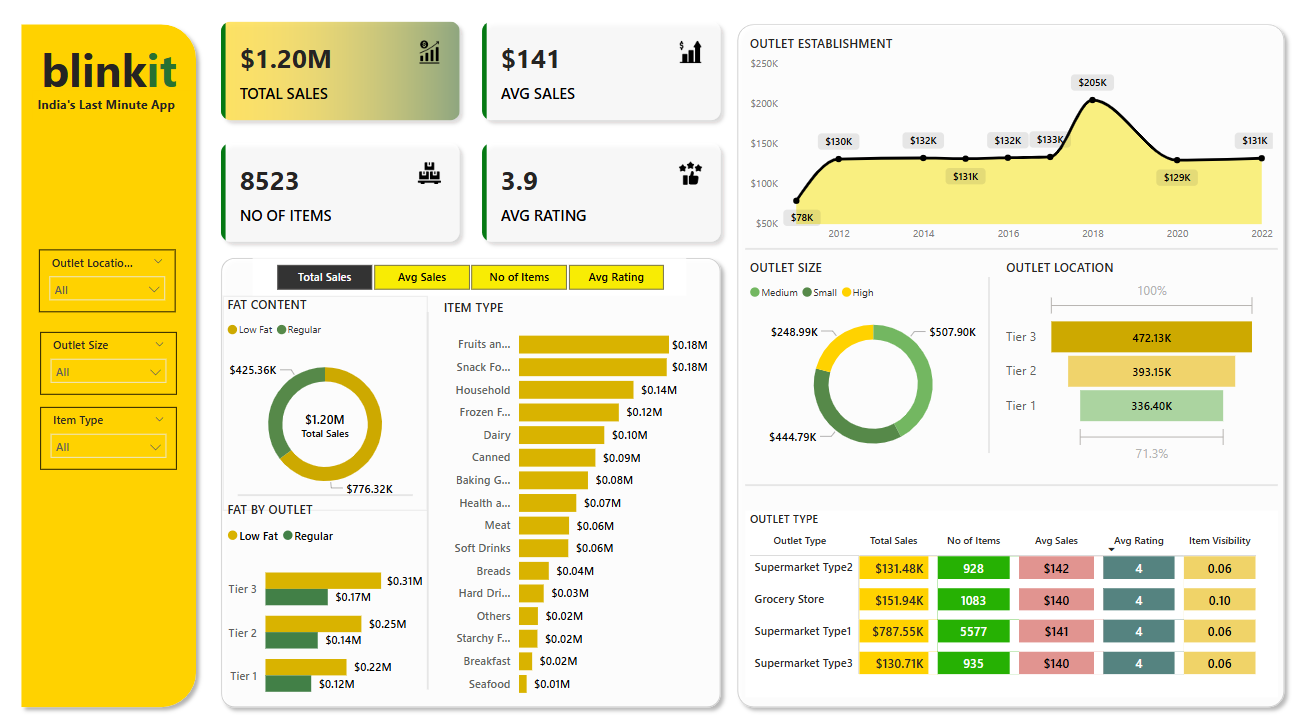

The dashboard page shown, as its layout file describes it:
{"tool":"powerbi","page":{"name":"Page 1","canvas":[1400,800],"ordinal":0},"visuals":[{"type":"shape","box":[15,25.5,205.6,750.4],"z":0},{"type":"textbox","box":[40.5,45,165.1,78],"z":1000},{"type":"textbox","box":[36,106.6,169.6,31.5],"z":2000},{"type":"cardVisual","fields":{"Data":["BlinkIT Grocery Data.Total Sales","BlinkIT Grocery Data.Avg Sales","BlinkIT Grocery Data.No of Items","BlinkIT Grocery Data.Avg Rating"]},"box":[220.6,15,570.3,270.2],"z":3000},{"type":"shape","box":[229.2,276.1,553.6,500],"z":4000},{"type":"donutChart","title":" FAT CONTENT","fields":{"Y":["BlinkIT Grocery Data.Total Sales"],"Category":["BlinkIT Grocery Data.Item Fat Content"]},"box":[239.9,325.7,219.8,230.6],"z":5000},{"type":"slicer","fields":{"Values":["Metrics.Metrics"]},"box":[272.1,285.5,465.1,40.2],"z":6000},{"type":"cardVisual","fields":{"Data":["BlinkIT Grocery Data.Total Sales"]},"box":[301.6,431.6,96.5,65.7],"z":7000},{"type":"clusteredBarChart","title":"FAT BY OUTLET","fields":{"Y":["BlinkIT Grocery Data.Total Sales"],"Category":["BlinkIT Grocery Data.Outlet Location Type"],"Series":["BlinkIT Grocery Data.Item Fat Content"]},"box":[239.9,545.6,219.8,230.6],"z":8000},{"type":"shape","box":[256,522.8,187.7,33.5],"z":9000},{"type":"shape","box":[424.9,343.2,69.7,404.8],"z":10000},{"type":"barChart","title":"ITEM TYPE","fields":{"Y":["BlinkIT Grocery Data.Total Sales"],"Category":["BlinkIT Grocery Data.Item Type"]},"box":[471.9,328.4,293.6,438.3],"z":11000},{"type":"shape","box":[782.8,25.5,604.6,750.7],"z":12000},{"type":"lineChart","title":"OUTLET ESTABLISHMENT","fields":{"Y":["BlinkIT Grocery Data.Total Sales"],"Category":["BlinkIT Grocery Data.Outlet Establishment Year"]},"box":[800.3,45.6,571,230.6],"z":13000},{"type":"shape","box":[800.3,258.7,571,33.5],"z":14000},{"type":"donutChart","title":"OUTLET SIZE","fields":{"Y":["BlinkIT Grocery Data.Total Sales"],"Category":["BlinkIT Grocery Data.Outlet Size"]},"box":[800.3,285.5,274.8,225.2],"z":15000},{"type":"shape","box":[1026.8,305.6,69.7,189],"z":16000},{"type":"funnel","title":"OUTLET LOCATION","fields":{"Category":["BlinkIT Grocery Data.Outlet Location Type"],"Y":["Sum(BlinkIT Grocery Data.Sales)"]},"box":[1075.1,285.5,278.8,225.2],"z":17000},{"type":"shape","box":[800.3,512.1,571,33.5],"z":18000},{"type":"pivotTable","title":"OUTLET TYPE","fields":{"Rows":["BlinkIT Grocery Data.Outlet Type"],"Values":["BlinkIT Grocery Data.Total Sales","BlinkIT Grocery Data.No of Items","BlinkIT Grocery Data.Avg Sales","BlinkIT Grocery Data.Avg Rating","Avg(BlinkIT Grocery Data.Item Visibility)"]},"box":[800.3,556.3,571,199.7],"z":19000},{"type":"slicer","fields":{"Values":["BlinkIT Grocery Data.Outlet Location Type"]},"box":[42.9,276.1,146.1,67],"z":20000},{"type":"slicer","fields":{"Values":["BlinkIT Grocery Data.Outlet Size"]},"box":[44.2,364.6,146.1,67],"z":21000},{"type":"slicer","fields":{"Values":["BlinkIT Grocery Data.Item Type"]},"box":[44.2,445,146.1,67],"z":22000}]}

Visuals, with their boxes in screenshot pixels (x1, y1, x2, y2), scaled from the page's 1400x800 canvas onto the 1304x727 screenshot:
shape: locate(14, 23, 205, 705)
textbox: locate(38, 41, 192, 112)
textbox: locate(34, 97, 192, 125)
cardVisual - BlinkIT Grocery Data.Total Sales x BlinkIT Grocery Data.Avg Sales: locate(205, 14, 737, 259)
shape: locate(213, 251, 729, 705)
" FAT CONTENT" donutChart: locate(223, 296, 428, 506)
slicer - Metrics.Metrics: locate(253, 259, 687, 296)
cardVisual - BlinkIT Grocery Data.Total Sales: locate(281, 392, 371, 452)
"FAT BY OUTLET" clusteredBarChart: locate(223, 496, 428, 705)
shape: locate(238, 475, 413, 506)
shape: locate(396, 312, 461, 680)
"ITEM TYPE" barChart: locate(440, 298, 713, 697)
shape: locate(729, 23, 1292, 705)
"OUTLET ESTABLISHMENT" lineChart: locate(745, 41, 1277, 251)
shape: locate(745, 235, 1277, 266)
"OUTLET SIZE" donutChart: locate(745, 259, 1001, 464)
shape: locate(956, 278, 1021, 449)
"OUTLET LOCATION" funnel: locate(1001, 259, 1261, 464)
shape: locate(745, 465, 1277, 496)
"OUTLET TYPE" pivotTable: locate(745, 506, 1277, 687)
slicer - BlinkIT Grocery Data.Outlet Location Type: locate(40, 251, 176, 312)
slicer - BlinkIT Grocery Data.Outlet Size: locate(41, 331, 177, 392)
slicer - BlinkIT Grocery Data.Item Type: locate(41, 404, 177, 465)
